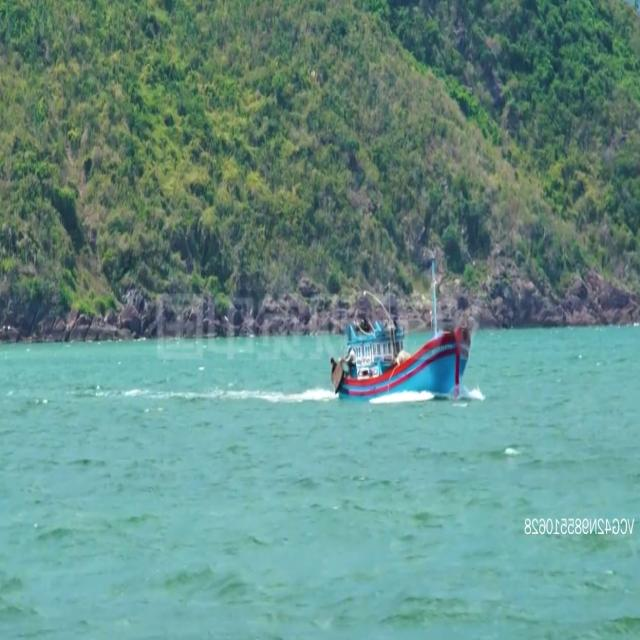fishing boat: (330, 255, 475, 410)
